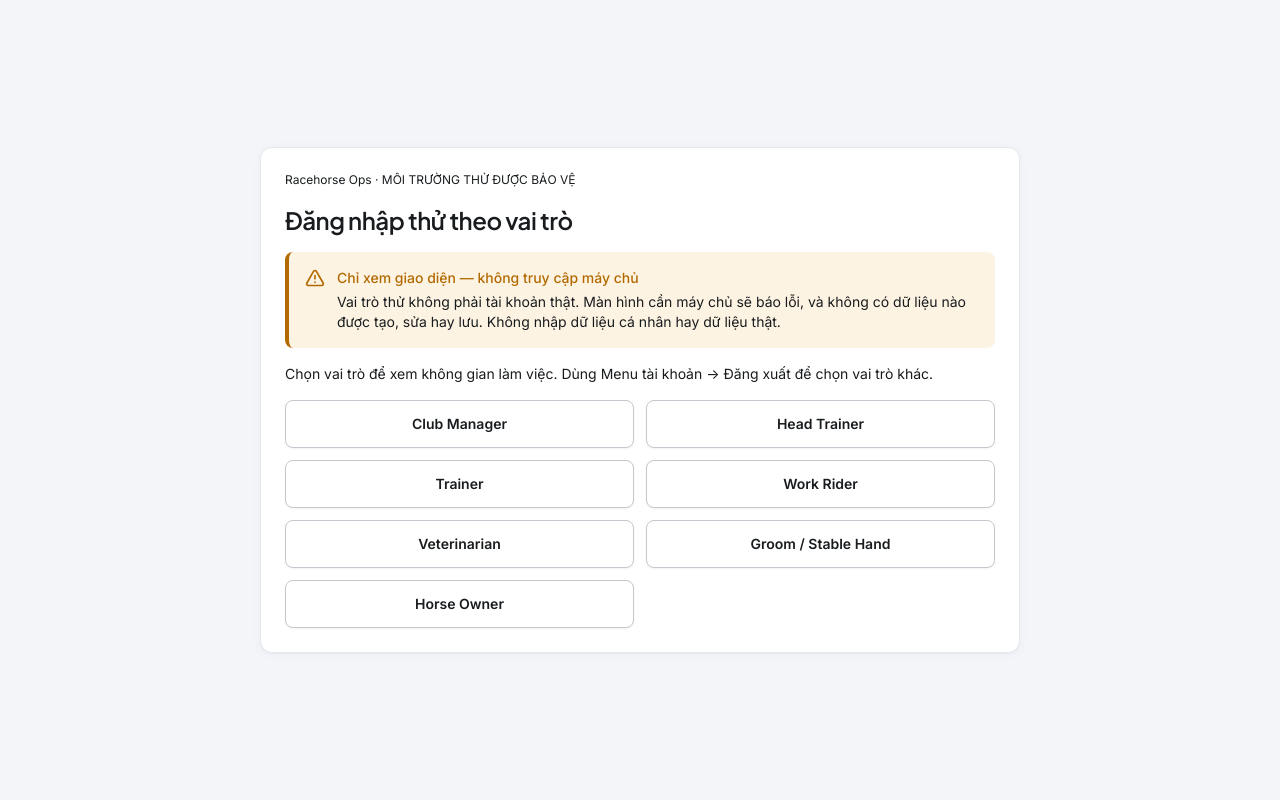
it: opens the HEAD_TRAINER workspace without credentials, network or sample data
Expected: the heading "Đăng nhập thử theo vai trò" is shown, [285,205,573,235]
Click the button "Head Trainer": (820, 424) [646,400,995,448]
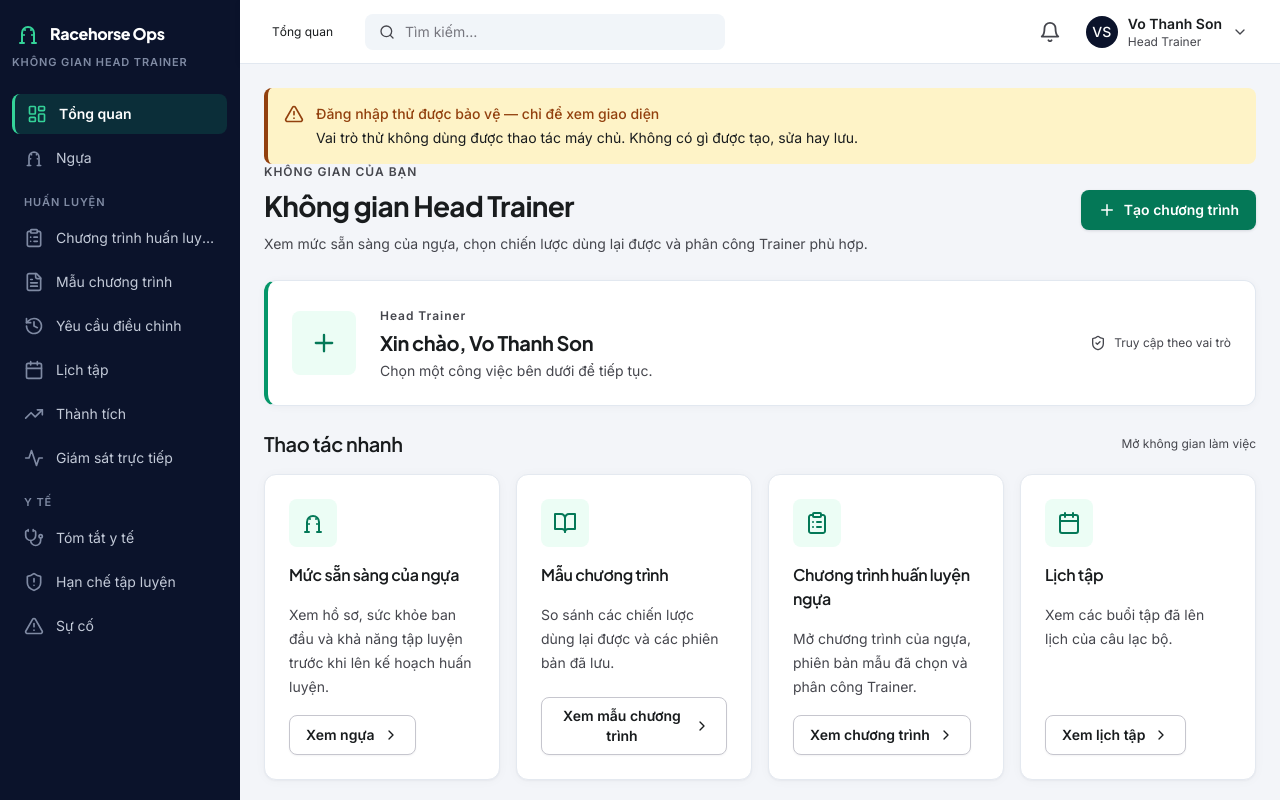
Result: the heading "Không gian Head Trainer" is shown at [264,188,574,223]
Result: the text "Đăng nhập thử được bảo vệ — chỉ để xem giao diện" is shown at [316,105,659,122]
